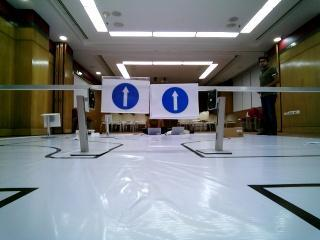straight: (148, 83, 198, 117), (103, 77, 147, 112)
